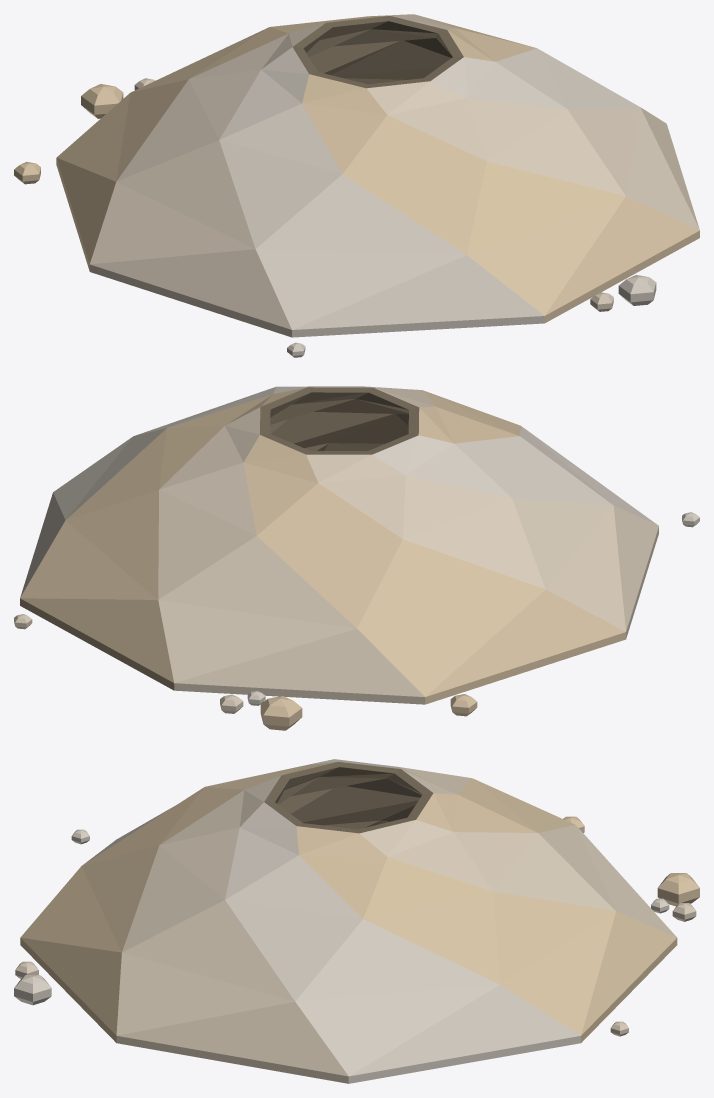
File: E_AntHill.fbx
3 renders of one model, top to bottom at view 1: azimuth 30°, elevation 25°; view 2: azimuth 150°, elevation 25°; view 3: azimuth 270°, elevation 25°, orthographic.
Parts seen in each view (by area): view 1: pPipe1, pSphere1, pSphere3; view 2: pPipe1, pSphere1; view 3: pPipe1, pSphere1, pSphere3.
Boxes of the visible parts, box(x1,y1,x2,y2) form: pPipe1: box(56, 14, 699, 337); pSphere1: box(81, 84, 123, 118); pSphere3: box(618, 274, 656, 305); pPipe1: box(20, 386, 658, 704); pSphere1: box(260, 696, 302, 730); pPipe1: box(20, 759, 677, 1083); pSphere1: box(657, 873, 699, 906); pSphere3: box(14, 975, 51, 1005).
Bounding box in the file's own units: 3.02 × 0.8038 × 3.16.
